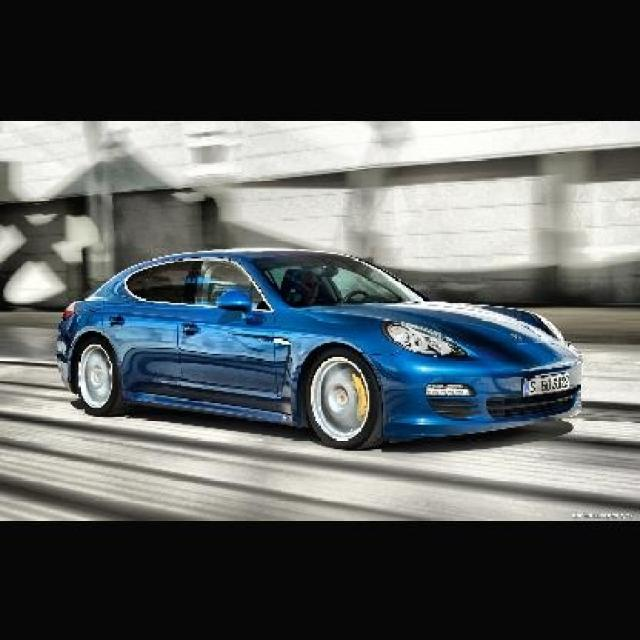blue: (34, 239, 595, 464)
